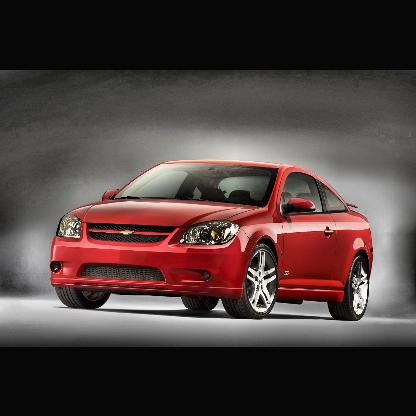Chevrolet Cobalt SS 2010: (49, 159, 376, 321)
